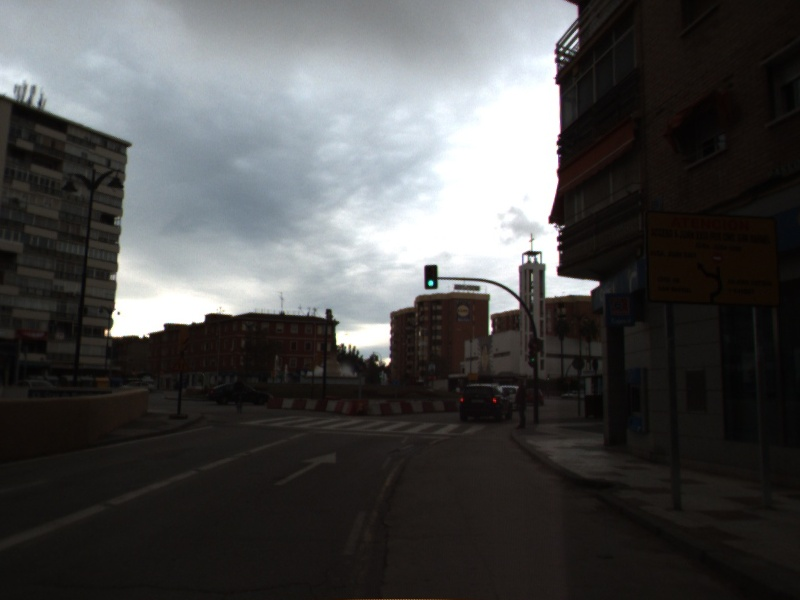STRAIGHT: (272, 449, 339, 488)
